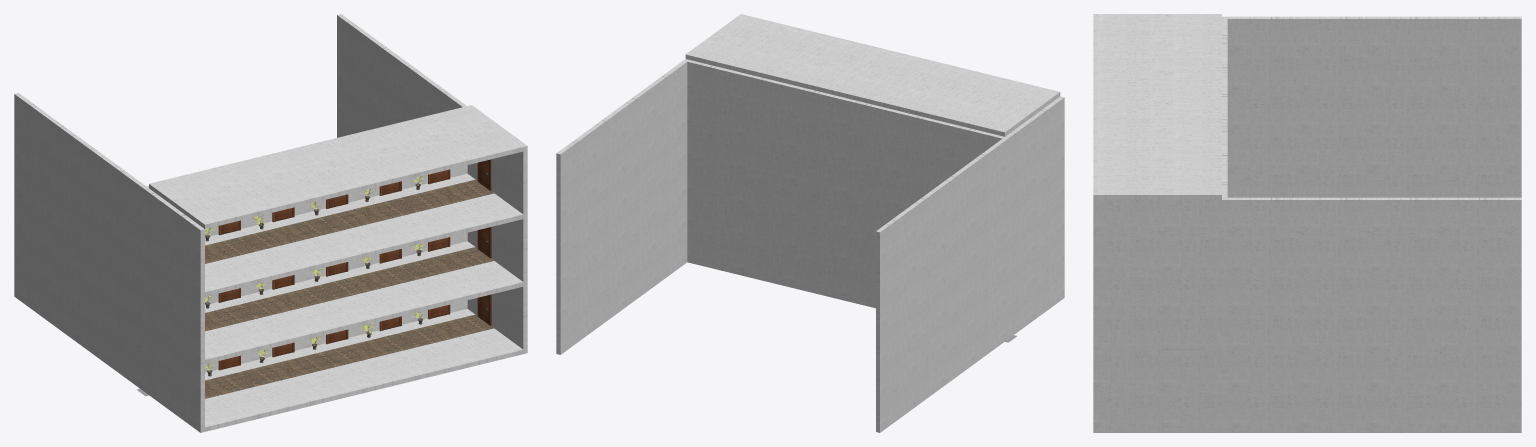
The model's file is Hotel_1.fbx.
The picture shows the model from 3 angles, left to right: view 1: azimuth 30°, elevation 25°; view 2: azimuth 150°, elevation 25°; view 3: azimuth 270°, elevation 25°; orthographic projection. The views are drawn at different scales.
Parts seen in each view (by area): view 1: pCube21, pCube46, pCube47, pCube48, pCube42, pCube43, pCube41, pCube50, pCube38, pCube45, pCube44, pCube49 (+4 smaller); view 2: pCube1, pCube21, pCube4, pCube46, pCube5, pCube47, pCube48, pCube50, pCube49, pCube51; view 3: pCube50, pCube51, pCube49, pCube21, pCube46, pCube47, pCube48, pCube1, pCube42, pCube43, pCube5, pCube4.
Boxes of the visible parts, x1,y1,x2,y2 form: pCube21: (149,105,527,228); pCube46: (14,93,204,297); pCube47: (14,162,204,365); pCube48: (14,229,204,432); pCube42: (205,241,527,364); pCube43: (205,309,527,431); pCube41: (205,173,527,296); pCube50: (337,14,527,214); pCube38: (205,179,494,263); pCube45: (205,314,494,398); pCube44: (205,247,494,331); pCube49: (337,83,527,281); pCube1: (683,59,1004,188); pCube21: (685,14,1060,136); pCube4: (687,128,933,241); pCube46: (876,96,1064,298); pCube5: (687,195,875,308); pCube47: (876,164,1064,365); pCube48: (876,231,1064,432); pCube50: (556,59,688,221); pCube49: (556,129,687,287); pCube51: (556,196,687,354); pCube50: (1093,197,1521,277); pCube51: (1093,355,1521,432); pCube49: (1093,277,1521,355); pCube21: (1093,14,1221,199); pCube46: (1222,16,1521,96); pCube47: (1227,96,1521,174); pCube48: (1227,174,1521,197); pCube1: (1222,19,1227,199); pCube42: (1093,350,1221,355); pCube43: (1093,428,1221,432); pCube5: (1222,355,1227,432); pCube4: (1222,277,1227,355).
Bounding box in the file's own units: 2050 × 1227 × 2000.
